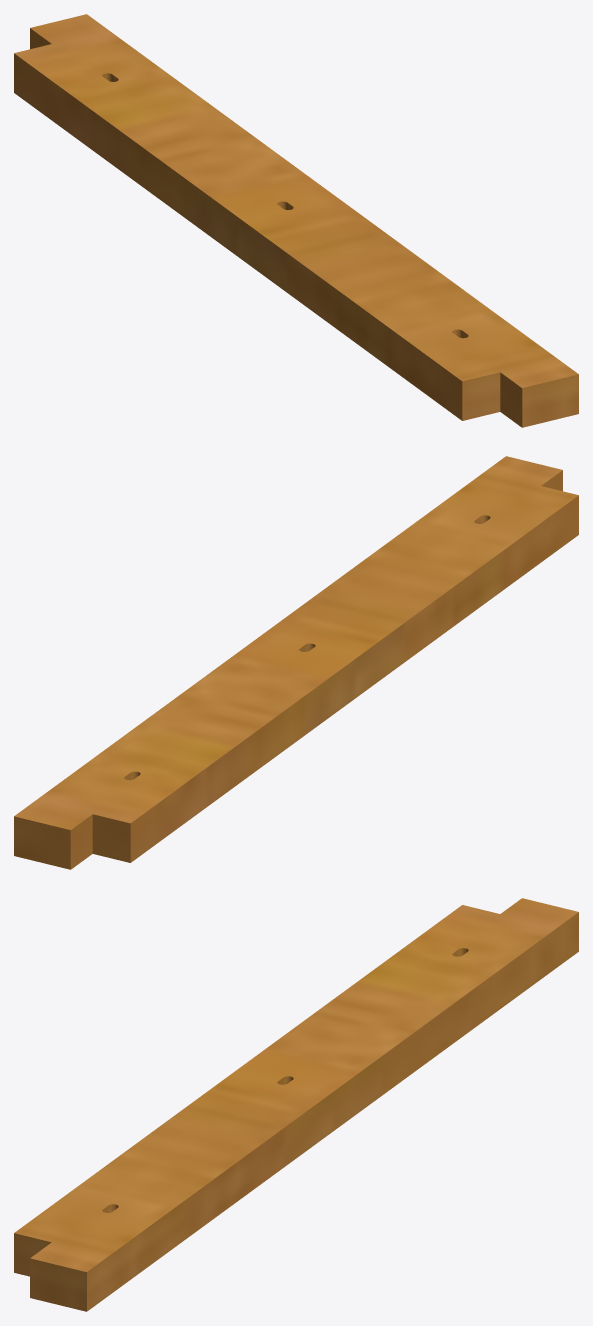
Rendered from original-19.obj.
3 views of the same model, one above another, from view 1: azimuth 30°, elevation 25°; view 2: azimuth 150°, elevation 25°; view 3: azimuth 330°, elevation 25° (orthographic).
Parts seen in each view (by area): view 1: Group20/mesh41/mesh41-geometry#mesh41-geometry; view 2: Group20/mesh41/mesh41-geometry#mesh41-geometry; view 3: Group20/mesh41/mesh41-geometry#mesh41-geometry.
Part boxes in pixels (bbox=[...]): Group20/mesh41/mesh41-geometry#mesh41-geometry: bbox=[14, 14, 578, 427]; Group20/mesh41/mesh41-geometry#mesh41-geometry: bbox=[14, 456, 578, 869]; Group20/mesh41/mesh41-geometry#mesh41-geometry: bbox=[14, 898, 578, 1311].
Size of the model in its own units: 0.049 by 0.0196 by 0.4412.
